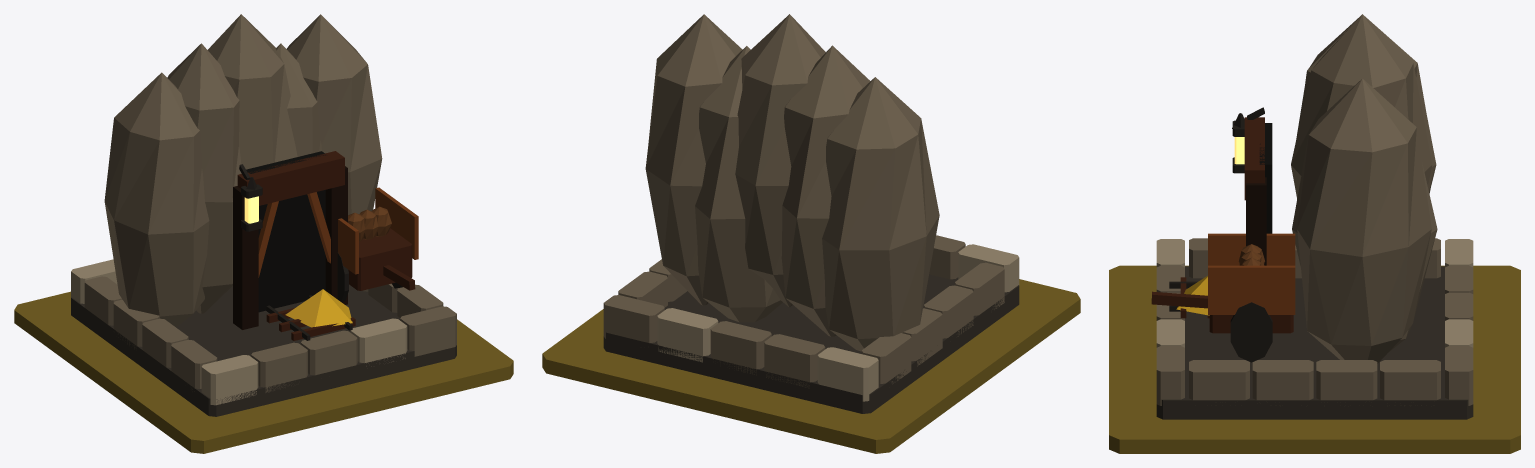
File: mine_t5.glb
3 renders of one model, left to right at view 1: azimuth 30°, elevation 25°; view 2: azimuth 150°, elevation 25°; view 3: azimuth 270°, elevation 25°, orthographic. The views are drawn at different scales.
Visible parts, largest first — view 1: MMR | mine | T05 Architecture.001, MMR | mine | Tier 05 Ground.001, MMR | mine | T05 Autumn Dressing.001; view 2: MMR | mine | T05 Architecture.001, MMR | mine | Tier 05 Ground.001; view 3: MMR | mine | T05 Architecture.001, MMR | mine | Tier 05 Ground.001, MMR | mine | T05 Autumn Dressing.001.
Part boxes in pixels (x1,y1,x2,y2): MMR | mine | T05 Architecture.001: (71, 14, 456, 416); MMR | mine | Tier 05 Ground.001: (14, 291, 513, 453); MMR | mine | T05 Autumn Dressing.001: (285, 289, 352, 327); MMR | mine | T05 Architecture.001: (603, 14, 1019, 413); MMR | mine | Tier 05 Ground.001: (542, 279, 1080, 453); MMR | mine | T05 Architecture.001: (1151, 14, 1473, 419); MMR | mine | Tier 05 Ground.001: (1109, 265, 1520, 453); MMR | mine | T05 Autumn Dressing.001: (1176, 275, 1209, 315).
Size of the model in its own units: 1.3 by 1.23 by 1.3.
Materials: 2 (1 with a texture image).
